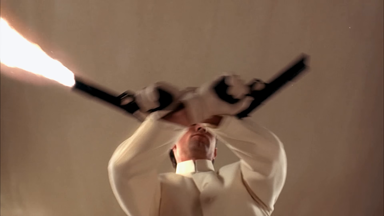firearm: (209, 51, 313, 119), (72, 75, 176, 122)
